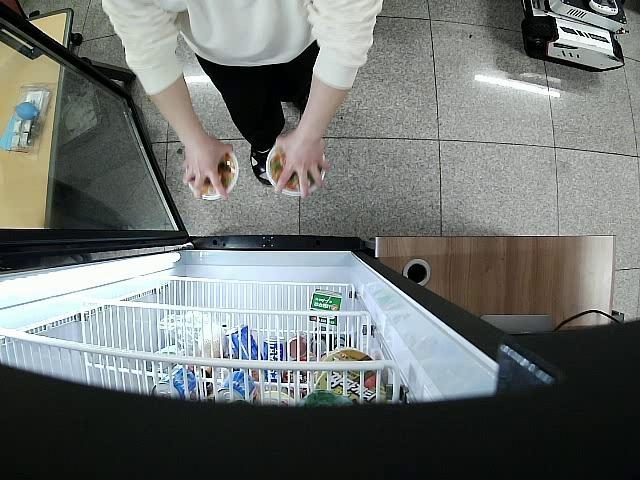09_yukGaeJang: (266, 142, 328, 198), (184, 153, 238, 202)
